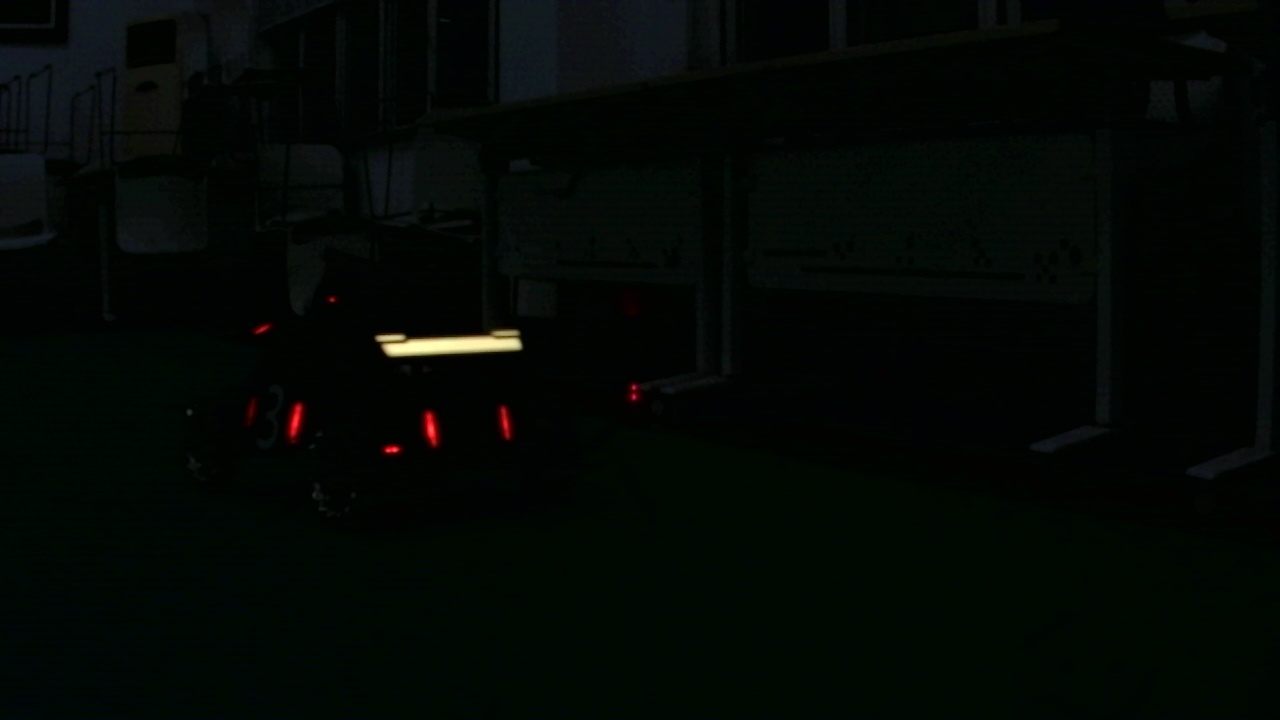lamp: (420, 407, 441, 446), (286, 400, 303, 441), (501, 401, 513, 436)
notpair1: (284, 397, 442, 445)
pair1: (421, 406, 516, 450)
